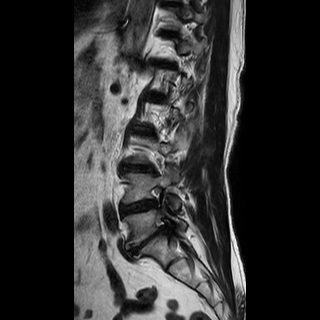LFS2: (145, 182, 170, 213)
